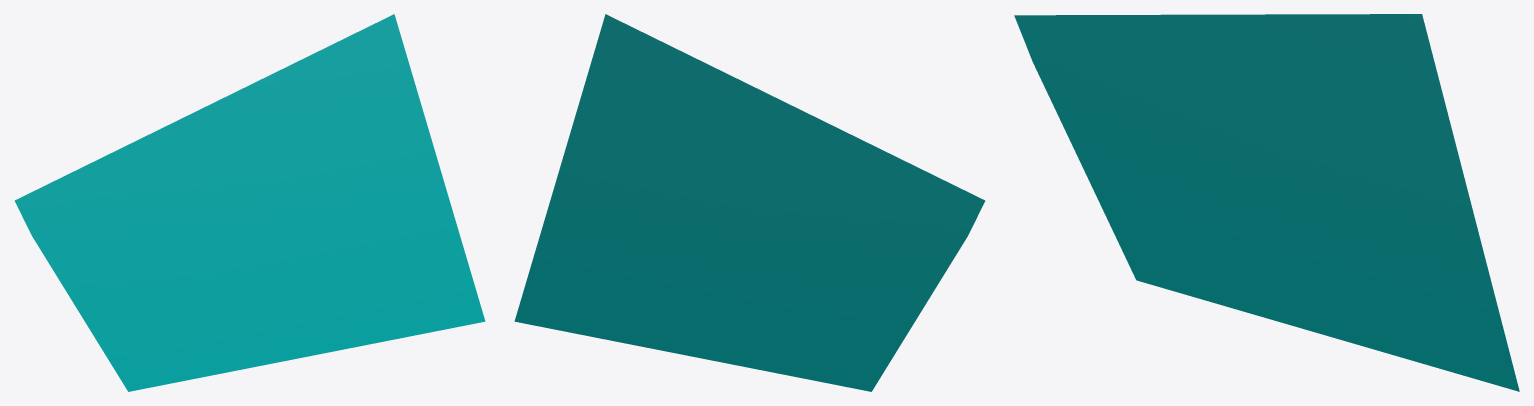
File: Dry_Grass_tbbqejqr_Mid_tbbqejqr_VarD_LOD2.fbx
3 views of the same model, side by side, from view 1: azimuth 30°, elevation 25°; view 2: azimuth 150°, elevation 25°; view 3: azimuth 330°, elevation 25° (orthographic). The views are drawn at different scales.
Visible parts, largest first — view 1: _3b06_VarD_LOD3; view 2: _3b06_VarD_LOD3; view 3: _3b06_VarD_LOD3.
Boxes of the visible parts, box(x1,y1,x2,y2) form: _3b06_VarD_LOD3: box(14, 14, 485, 391); _3b06_VarD_LOD3: box(514, 14, 985, 391); _3b06_VarD_LOD3: box(1014, 14, 1519, 391).
Bounding box in the file's own units: 20.79 × 13.91 × 0.
